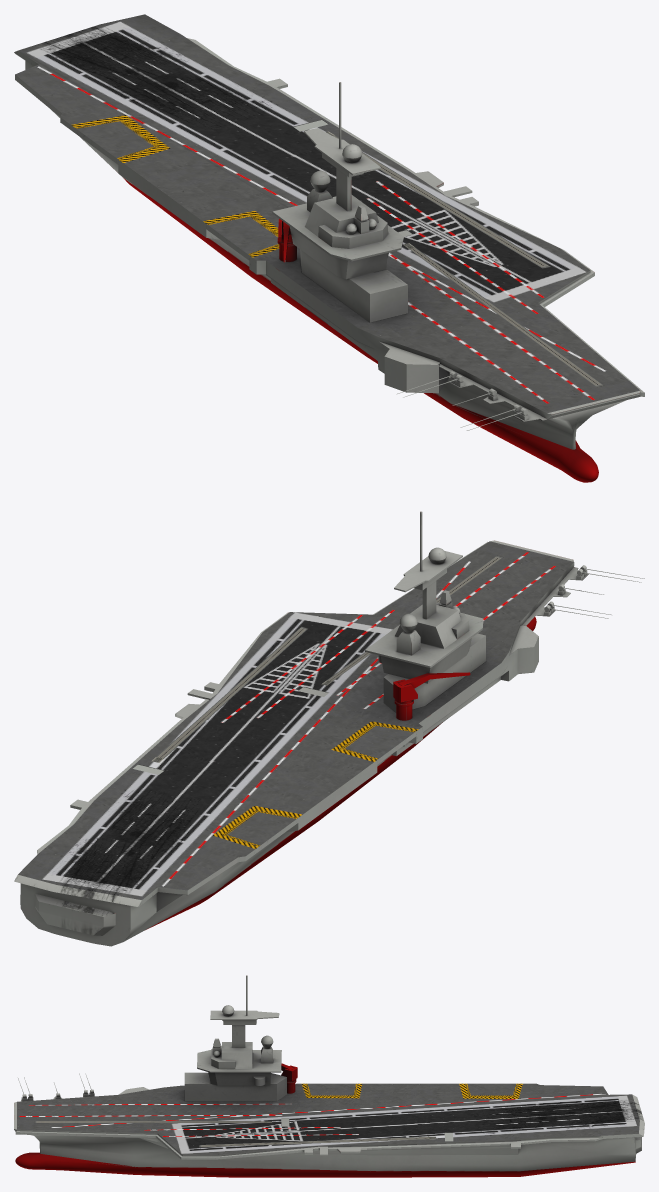
Rendered from Aircraft_Carrier.fbx.
The picture shows the model from 3 angles, top to bottom: view 1: azimuth 30°, elevation 25°; view 2: azimuth 150°, elevation 25°; view 3: azimuth 270°, elevation 25°; orthographic projection. The views are drawn at different scales.
Visible parts, largest first — view 1: Charles, tower, elevator2, elevator1, aimer; view 2: Charles, tower, elevator2, elevator1, aimer; view 3: Charles, tower, elevator2, elevator1.
Part boxes in pixels (x1,y1,x2,y2): Charles: (14, 14, 644, 482); tower: (272, 82, 407, 322); elevator2: (74, 119, 158, 164); elevator1: (206, 215, 279, 260); aimer: (396, 371, 528, 430); Charles: (14, 540, 588, 946); tower: (365, 511, 485, 720); elevator2: (223, 810, 298, 851); elevator1: (340, 724, 416, 764); aimer: (544, 565, 644, 618); Charles: (14, 1083, 644, 1177); tower: (184, 975, 297, 1101); elevator2: (465, 1083, 518, 1096); elevator1: (305, 1083, 357, 1096).
Size of the model in its own units: 14.65 by 14.4 by 47.29.
